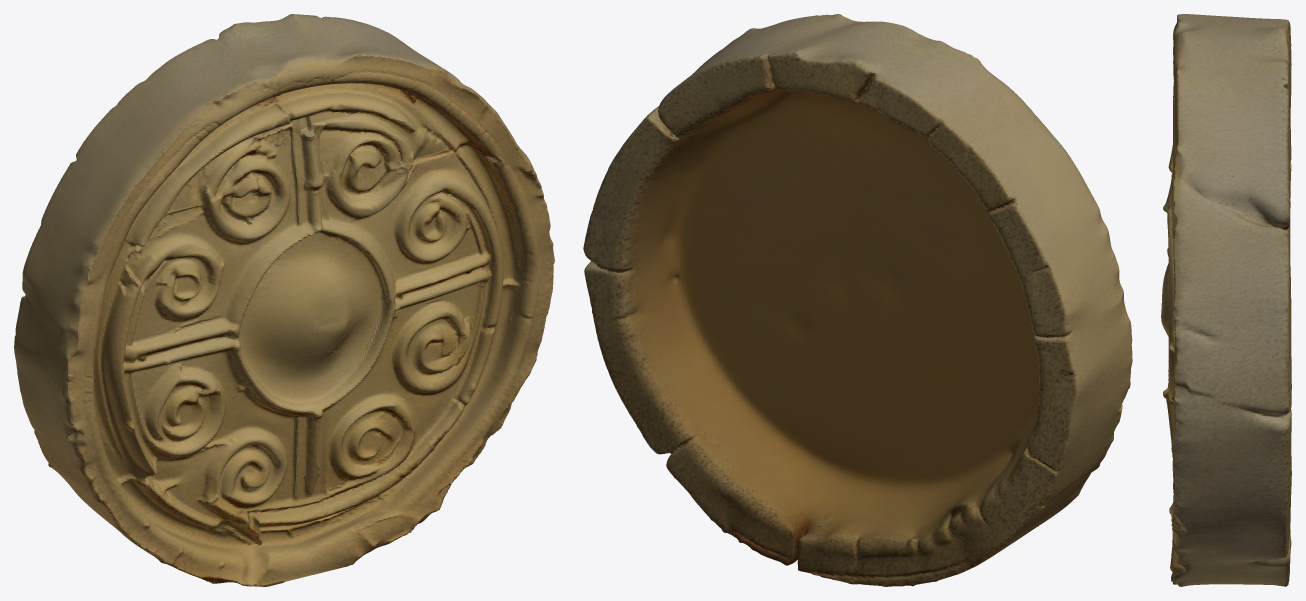
Rendered from zhongyuan.glb.
The picture shows the model from 3 angles, left to right: view 1: azimuth 30°, elevation 25°; view 2: azimuth 150°, elevation 25°; view 3: azimuth 270°, elevation 25°; orthographic projection.
Visible parts, largest first — view 1: node_0; view 2: node_0; view 3: node_0.
Boxes of the visible parts, left/top/right/bottom form: node_0: left=14, top=14, right=554, bottom=586; node_0: left=583, top=14, right=1132, bottom=586; node_0: left=1161, top=14, right=1291, bottom=586.
Bounding box in the file's own units: 1.15 × 1.16 × 0.2651.
